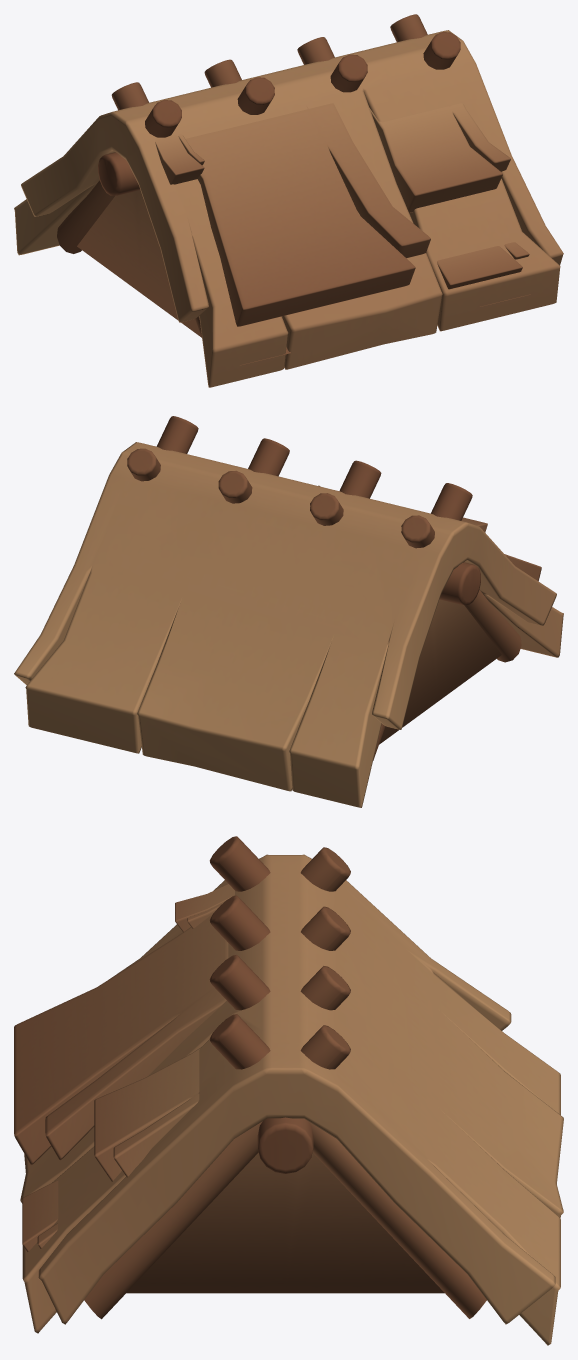
File: SM_Clay_Roof_04.fbx
The picture shows the model from 3 angles, top to bottom: view 1: azimuth 30°, elevation 25°; view 2: azimuth 150°, elevation 25°; view 3: azimuth 270°, elevation 25°; orthographic projection. The views are drawn at different scales.
Visible parts, largest first — view 1: SM_Clay_Roof_04; view 2: SM_Clay_Roof_04; view 3: SM_Clay_Roof_04.
Part boxes in pixels (bbox=[...]): SM_Clay_Roof_04: bbox=[14, 14, 563, 387]; SM_Clay_Roof_04: bbox=[14, 416, 563, 807]; SM_Clay_Roof_04: bbox=[14, 836, 563, 1345].
Size of the model in its own units: 1.03 by 0.6432 by 1.03.
1 material, 1 textured.
